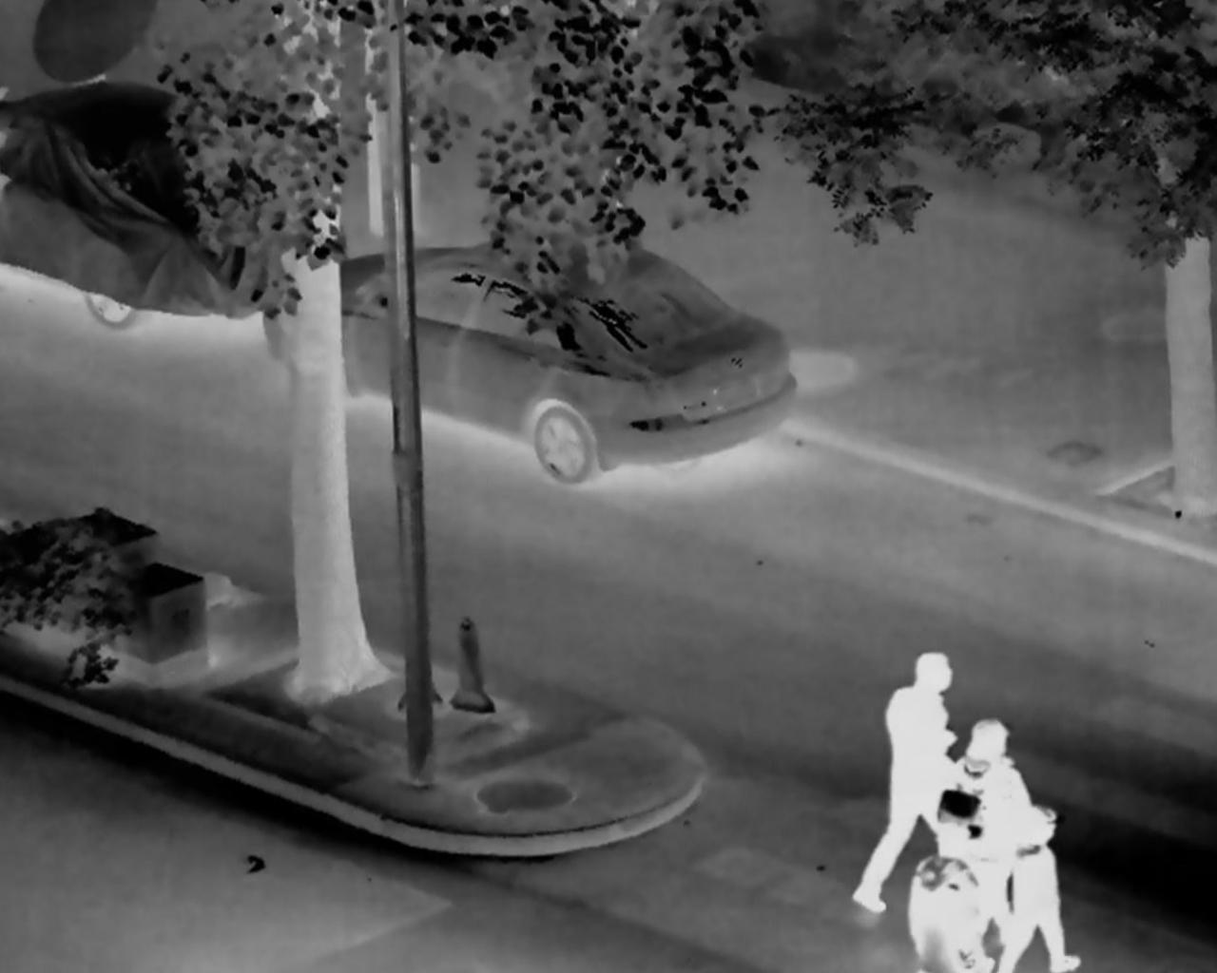person: (854, 652, 974, 914), (953, 717, 1024, 946), (993, 804, 1074, 973), (904, 826, 987, 973)
